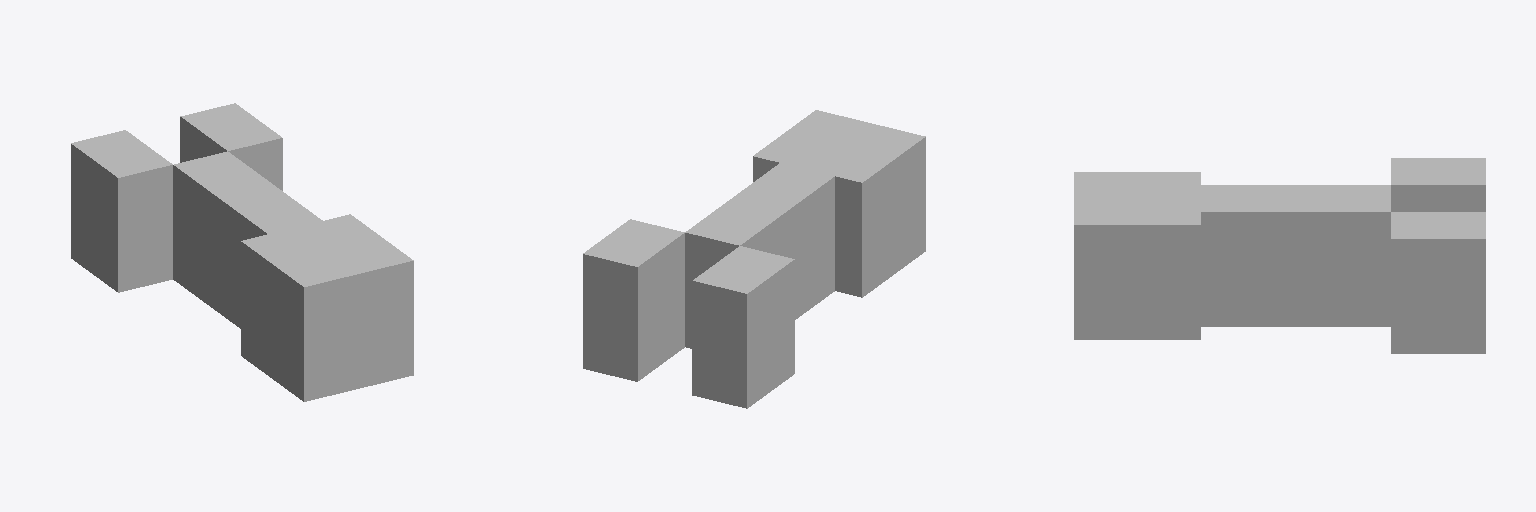
File: creeper.obj
3 renders of one model, left to right at view 1: azimuth 30°, elevation 25°; view 2: azimuth 150°, elevation 25°; view 3: azimuth 270°, elevation 25°, orthographic.
Visible parts, largest first — view 1: Creeper_Cube.002; view 2: Creeper_Cube.002; view 3: Creeper_Cube.002.
Part boxes in pixels (bbox=[...]): Creeper_Cube.002: bbox=[71, 103, 413, 401]; Creeper_Cube.002: bbox=[583, 110, 925, 408]; Creeper_Cube.002: bbox=[1074, 158, 1485, 353].
Size of the model in its own units: 0.9924 by 0.6616 by 2.15.